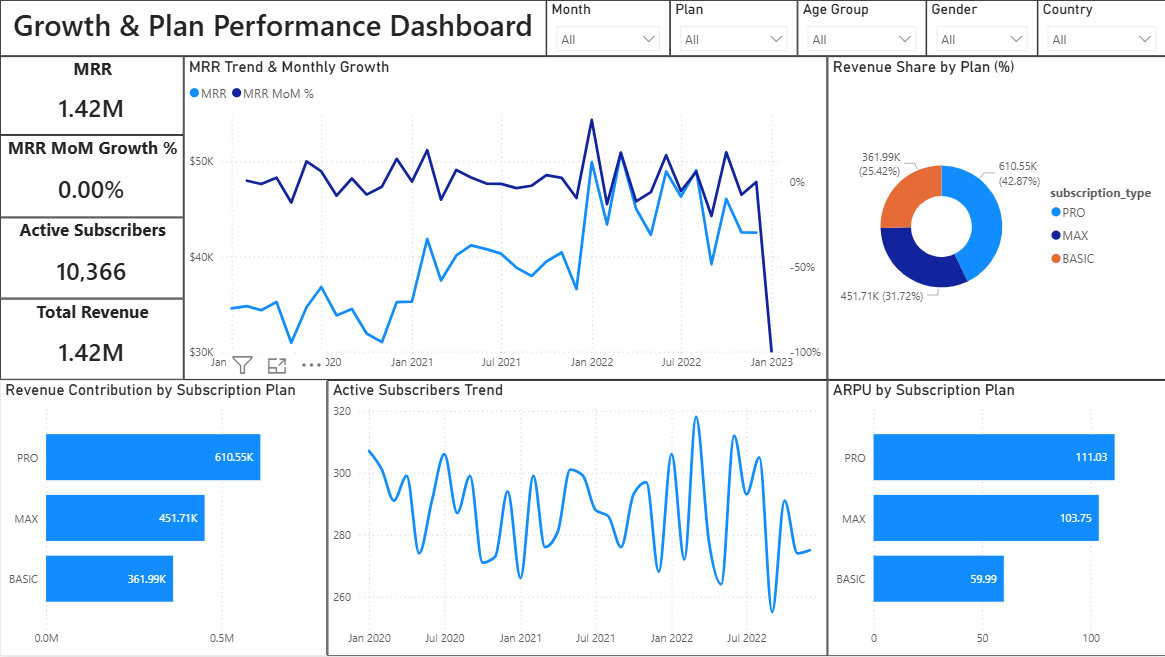

The page's visual inventory and layout, read from the dashboard file:
{"tool":"powerbi","page":{"name":"Growth & Plan Performance","canvas":[1280,720],"ordinal":1},"visuals":[{"type":"cardVisual","title":"MRR","fields":{"Data":["FactSubPeriods.MRR"]},"box":[0,61.7,201.7,86.4],"z":0},{"type":"textbox","box":[0,0,599.7,61.7],"z":1000},{"type":"lineChart","title":"MRR Trend & Monthly Growth","fields":{"Y":["FactSubPeriods.MRR"],"Y2":["FactSubPeriods.MRR MoM %"],"Category":["DimDate.month_start"]},"box":[201.7,61.7,706.7,355.4],"z":2000},{"type":"clusteredBarChart","title":"Revenue Contribution by Subscription Plan","fields":{"Category":["DimPlan.subscription_type"],"Y":["FactSubPeriods.Total Revenue"]},"box":[0,417.2,359.5,303.3],"z":3000},{"type":"clusteredBarChart","title":"ARPU by Subscription Plan","fields":{"Category":["DimPlan.subscription_type"],"Y":["FactSubPeriods.ARPU"]},"box":[908.4,417.2,371.9,303.3],"z":4000},{"type":"donutChart","title":"Revenue Share by Plan (%)","fields":{"Category":["DimPlan.subscription_type"],"Y":["FactSubPeriods.Total Revenue"]},"box":[908.4,61.7,371.9,355.4],"z":5000},{"type":"lineChart","title":"Active Subscribers Trend","fields":{"Category":["DimDate.month_start"],"Y":["FactSubPeriods.Active Subscribers"]},"box":[359.5,417.2,548.9,303.3],"z":6000},{"type":"slicer","title":"Plan","fields":{"Values":["DimPlan.subscription_type"]},"box":[735.5,0,140,61.7],"z":7000},{"type":"slicer","title":"Country","fields":{"Values":["DimCustomer.customer_country"]},"box":[1138.9,0,141.3,61.7],"z":8000},{"type":"slicer","title":"Age Group","fields":{"Values":["DimCustomer.age_group"]},"box":[875.5,0,141.3,61.7],"z":9000},{"type":"slicer","title":"Gender","fields":{"Values":["DimCustomer.customer_gender"]},"box":[1016.8,0,122.1,61.7],"z":10000},{"type":"slicer","title":"Month","fields":{"Values":["DimDate.month_start"]},"box":[599.7,0,135.8,61.7],"z":11000},{"type":"cardVisual","title":"Total Revenue","fields":{"Data":["FactSubPeriods.Total Revenue"]},"box":[0,328,201.7,89.2],"z":12000},{"type":"cardVisual","title":"MRR MoM Growth %","fields":{"Data":["FactSubPeriods.MRR MoM %"]},"box":[0,148.2,201.7,90.6],"z":13000},{"type":"cardVisual","title":"Active Subscribers","fields":{"Data":["FactSubPeriods.Active Subscribers"]},"box":[0,238.8,201.7,89.2],"z":14000}]}

Visuals, with their boxes in screenshot pixels (x1, y1, x2, y2), scaled from the page's 1280x720 canvas onto the 1165x657 screenshot:
"MRR" cardVisual: {"x1": 0, "y1": 56, "x2": 184, "y2": 135}
textbox: {"x1": 0, "y1": 0, "x2": 546, "y2": 56}
"MRR Trend & Monthly Growth" lineChart: {"x1": 184, "y1": 56, "x2": 827, "y2": 381}
"Revenue Contribution by Subscription Plan" clusteredBarChart: {"x1": 0, "y1": 381, "x2": 327, "y2": 656}
"ARPU by Subscription Plan" clusteredBarChart: {"x1": 827, "y1": 381, "x2": 1164, "y2": 656}
"Revenue Share by Plan (%)" donutChart: {"x1": 827, "y1": 56, "x2": 1164, "y2": 381}
"Active Subscribers Trend" lineChart: {"x1": 327, "y1": 381, "x2": 827, "y2": 656}
"Plan" slicer: {"x1": 669, "y1": 0, "x2": 797, "y2": 56}
"Country" slicer: {"x1": 1037, "y1": 0, "x2": 1164, "y2": 56}
"Age Group" slicer: {"x1": 797, "y1": 0, "x2": 925, "y2": 56}
"Gender" slicer: {"x1": 925, "y1": 0, "x2": 1037, "y2": 56}
"Month" slicer: {"x1": 546, "y1": 0, "x2": 669, "y2": 56}
"Total Revenue" cardVisual: {"x1": 0, "y1": 299, "x2": 184, "y2": 381}
"MRR MoM Growth %" cardVisual: {"x1": 0, "y1": 135, "x2": 184, "y2": 218}
"Active Subscribers" cardVisual: {"x1": 0, "y1": 218, "x2": 184, "y2": 299}
